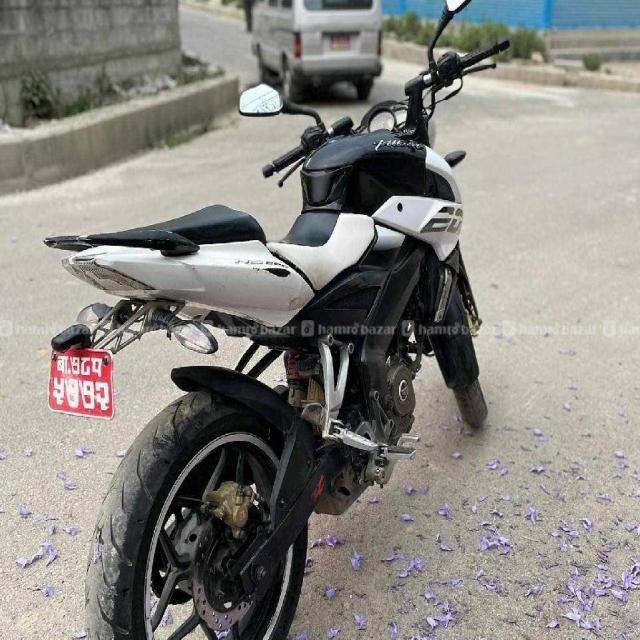License-plate: (49, 352, 113, 413)
